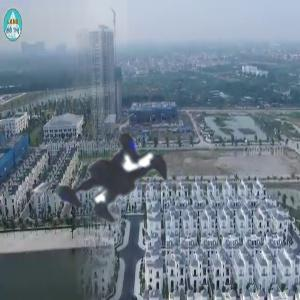drone: (6, 69, 222, 285)
